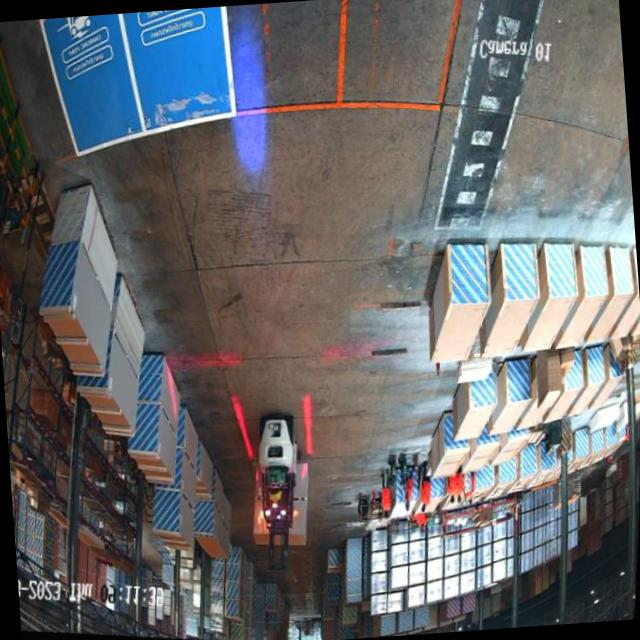driver: (266, 486, 284, 509)
forklift: (236, 405, 314, 583)
person: (416, 458, 436, 516), (376, 468, 396, 522), (399, 460, 418, 513), (453, 466, 466, 503), (444, 473, 458, 504)
